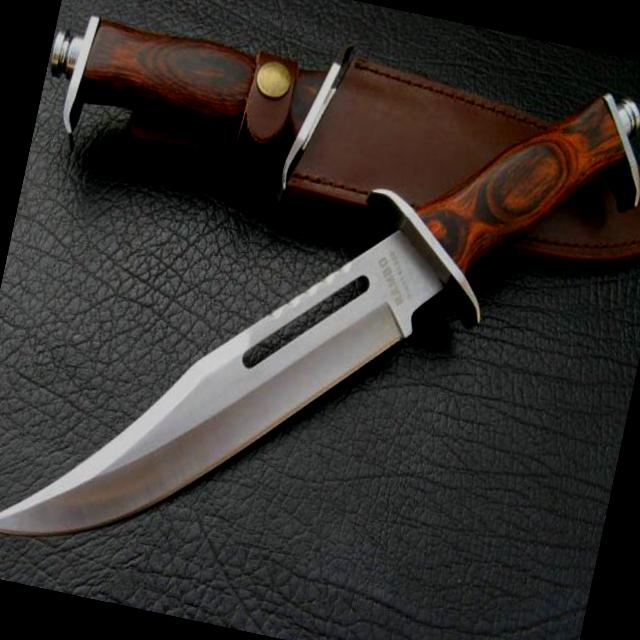knife: (0, 96, 527, 636)
